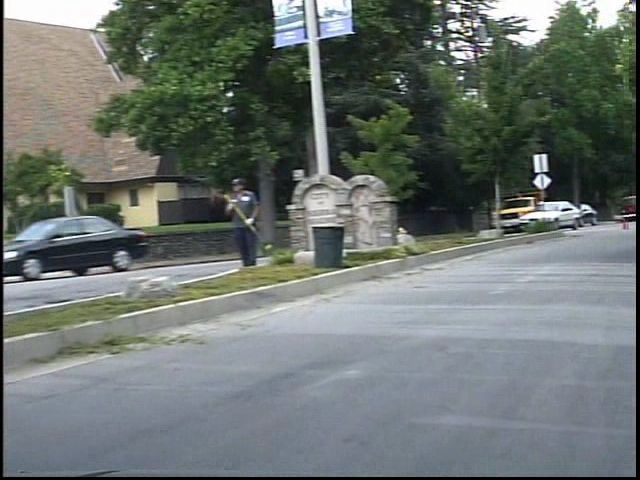person: (236, 174, 276, 271)
